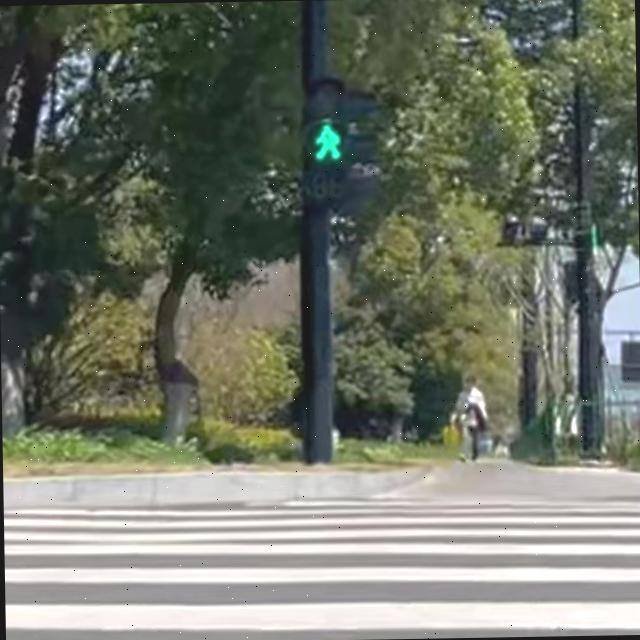curb: (3, 467, 429, 507)
